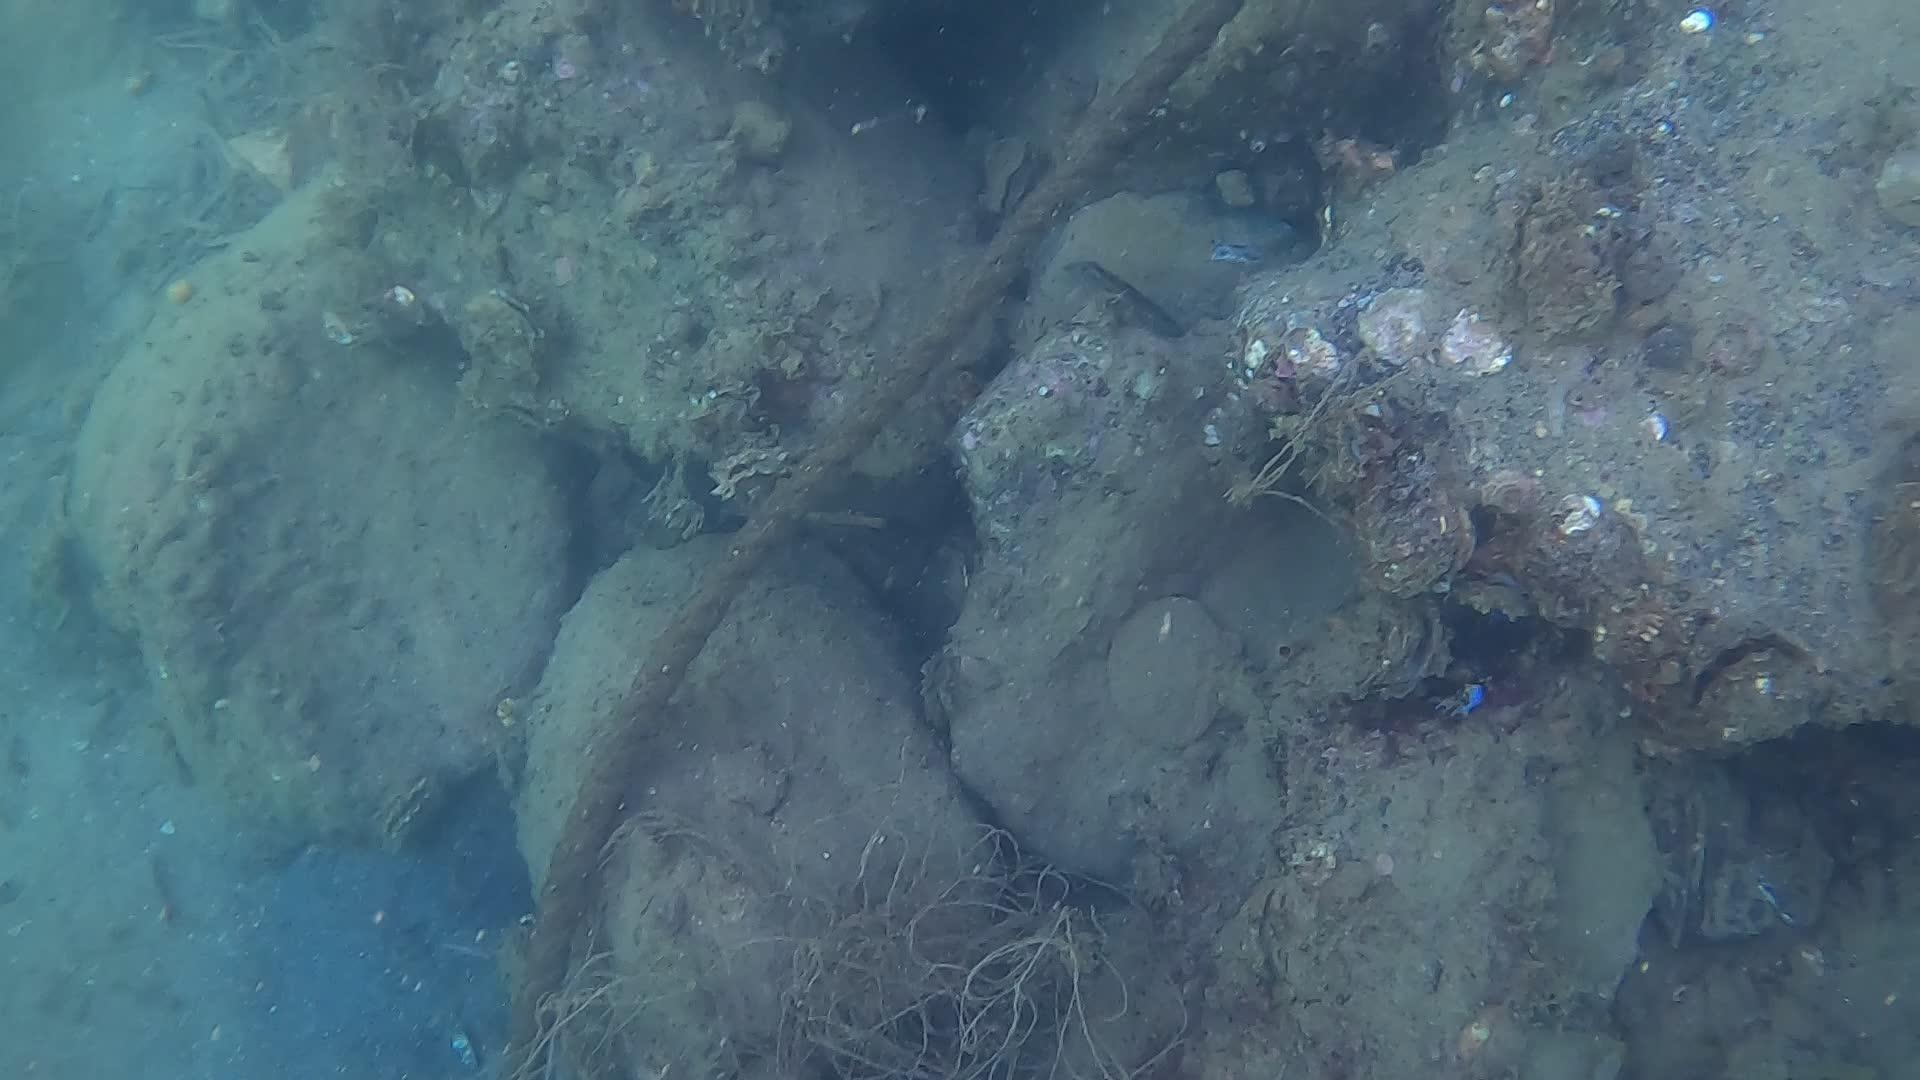rope: (497, 0, 1259, 1080)
